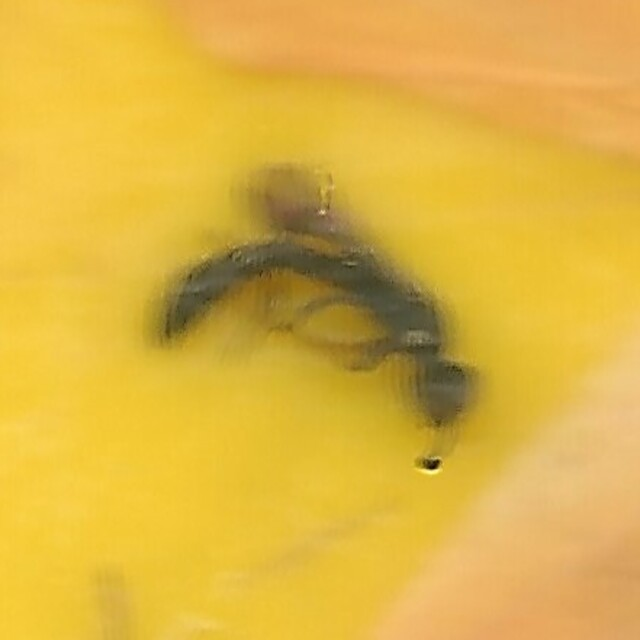Hymenoptera: (145, 166, 495, 474)
